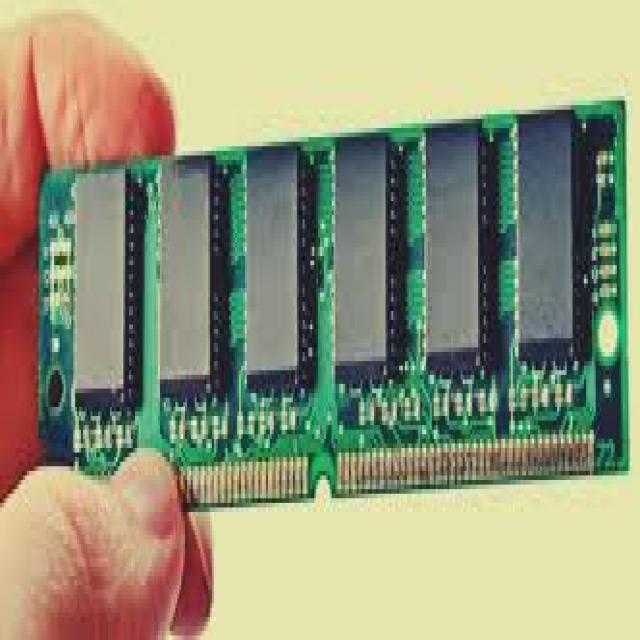Ram: (28, 90, 604, 515)
